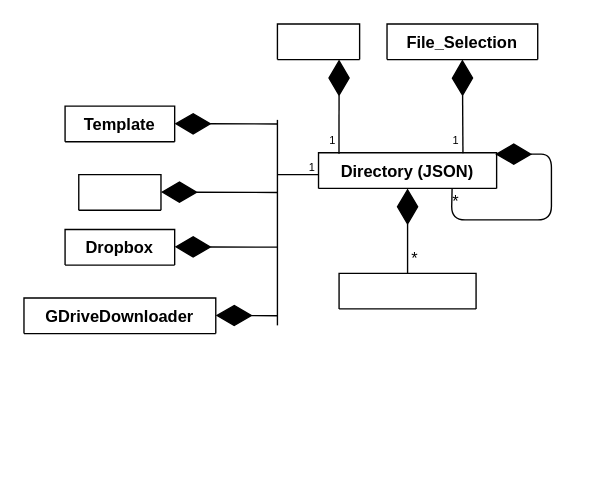
This 611x503 diagram has some shape labels left out. Here are the shapes that lost their labels. From the top down, the centre of each, then its label:
At (x=318, y=41): "Main".
At (x=119, y=191): "AWS".
At (x=407, y=290): "File (JSON)".
